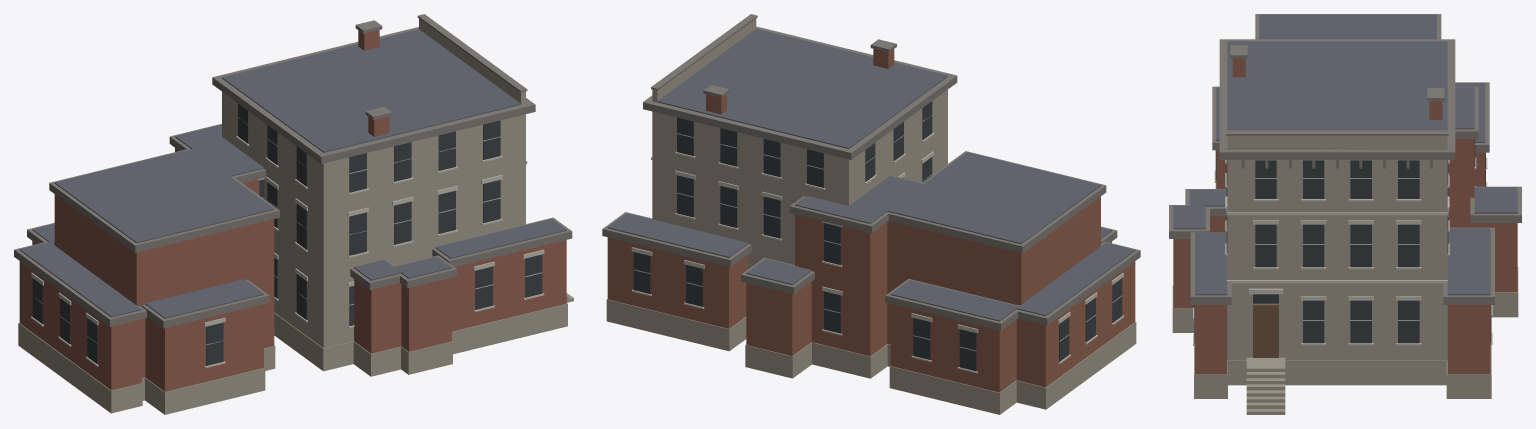
File: house_2026_prairie__draft_1904.glb
3 renders of one model, left to right at view 1: azimuth 30°, elevation 25°; view 2: azimuth 150°, elevation 25°; view 3: azimuth 270°, elevation 25°, orthographic. The views are drawn at different scales.
Visible parts, largest first — view 1: house_2026_prairie__draft_1904; view 2: house_2026_prairie__draft_1904; view 3: house_2026_prairie__draft_1904.
Part boxes in pixels (x1=…): house_2026_prairie__draft_1904: x1=14, y1=14, x2=573, y2=414; house_2026_prairie__draft_1904: x1=602, y1=14, x2=1140, y2=414; house_2026_prairie__draft_1904: x1=1169, y1=14, x2=1521, y2=414.
Size of the model in its own units: 27 by 13.34 by 16.4.
